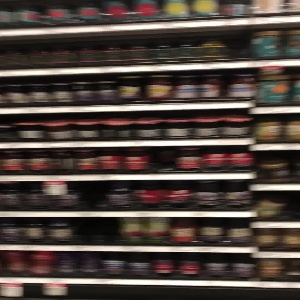void: (75, 217, 122, 245), (77, 181, 106, 210), (149, 147, 176, 173)
